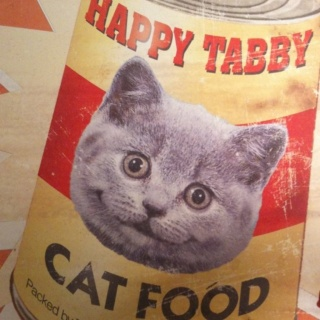Cat: (66, 52, 289, 278)
